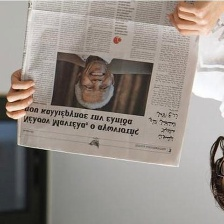news_paper: (10, 0, 207, 172)
